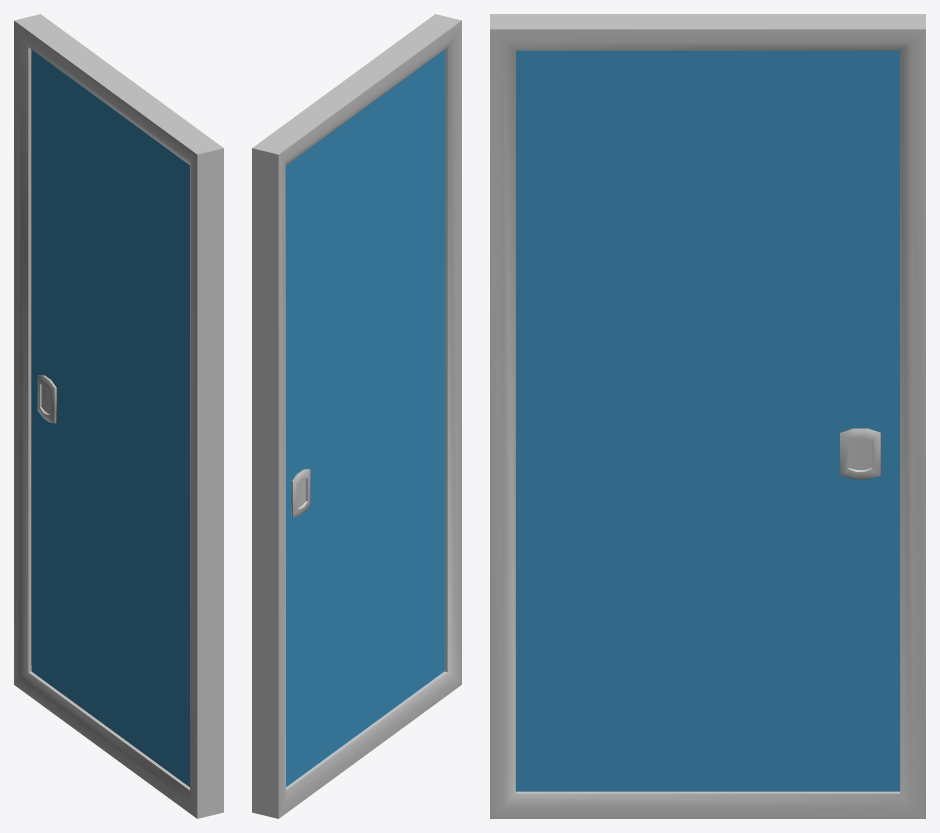
File: DarkWood_Fusuma_B_Transparent.fbx
3 renders of one model, left to right at view 1: azimuth 30°, elevation 25°; view 2: azimuth 150°, elevation 25°; view 3: azimuth 270°, elevation 25°, orthographic. The views are drawn at different scales.
Parts seen in each view (by area): view 1: DarkWood_Fusuma_B_Transparent; view 2: DarkWood_Fusuma_B_Transparent; view 3: DarkWood_Fusuma_B_Transparent.
Part boxes in pixels (box(x1,y1,x2,y2)): DarkWood_Fusuma_B_Transparent: box(14, 14, 223, 818); DarkWood_Fusuma_B_Transparent: box(252, 14, 461, 818); DarkWood_Fusuma_B_Transparent: box(490, 14, 925, 818).
Size of the model in its own units: 10.54 by 240 by 120.
